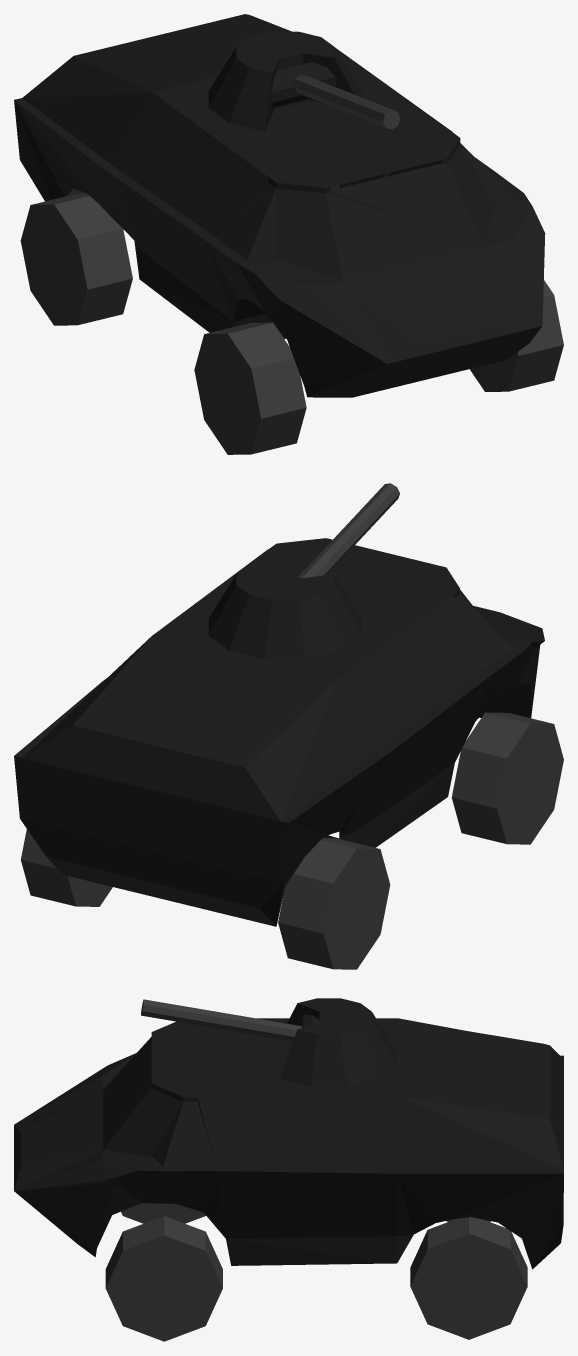
The model's file is APC2.fbx.
The picture shows the model from 3 angles, top to bottom: view 1: azimuth 30°, elevation 25°; view 2: azimuth 150°, elevation 25°; view 3: azimuth 270°, elevation 25°; orthographic projection. The views are drawn at different scales.
Visible parts, largest first — view 1: Body, Wheel2, Wheel3, Wheel; view 2: Body, Wheel2, Wheel3, Wheel1; view 3: Body, Wheel, Wheel1, Wheel2.
Part boxes in pixels (x1=…): Body: x1=14, y1=14, x2=545, y2=397; Wheel2: x1=194, y1=322, x2=306, y2=454; Wheel3: x1=20, y1=193, x2=132, y2=325; Wheel: x1=470, y1=280, x2=563, y2=391; Body: x1=14, y1=483, x2=544, y2=926; Wheel2: x1=451, y1=712, x2=563, y2=844; Wheel3: x1=278, y1=837, x2=390, y2=969; Wheel1: x1=20, y1=829, x2=112, y2=906; Body: x1=14, y1=998, x2=563, y2=1269; Wheel: x1=105, y1=1216, x2=222, y2=1341; Wheel1: x1=410, y1=1217, x2=527, y2=1339; Wheel2: x1=121, y1=1203, x2=205, y2=1223.
Bounding box in the file's own units: 31.64 × 31.56 × 56.74.
